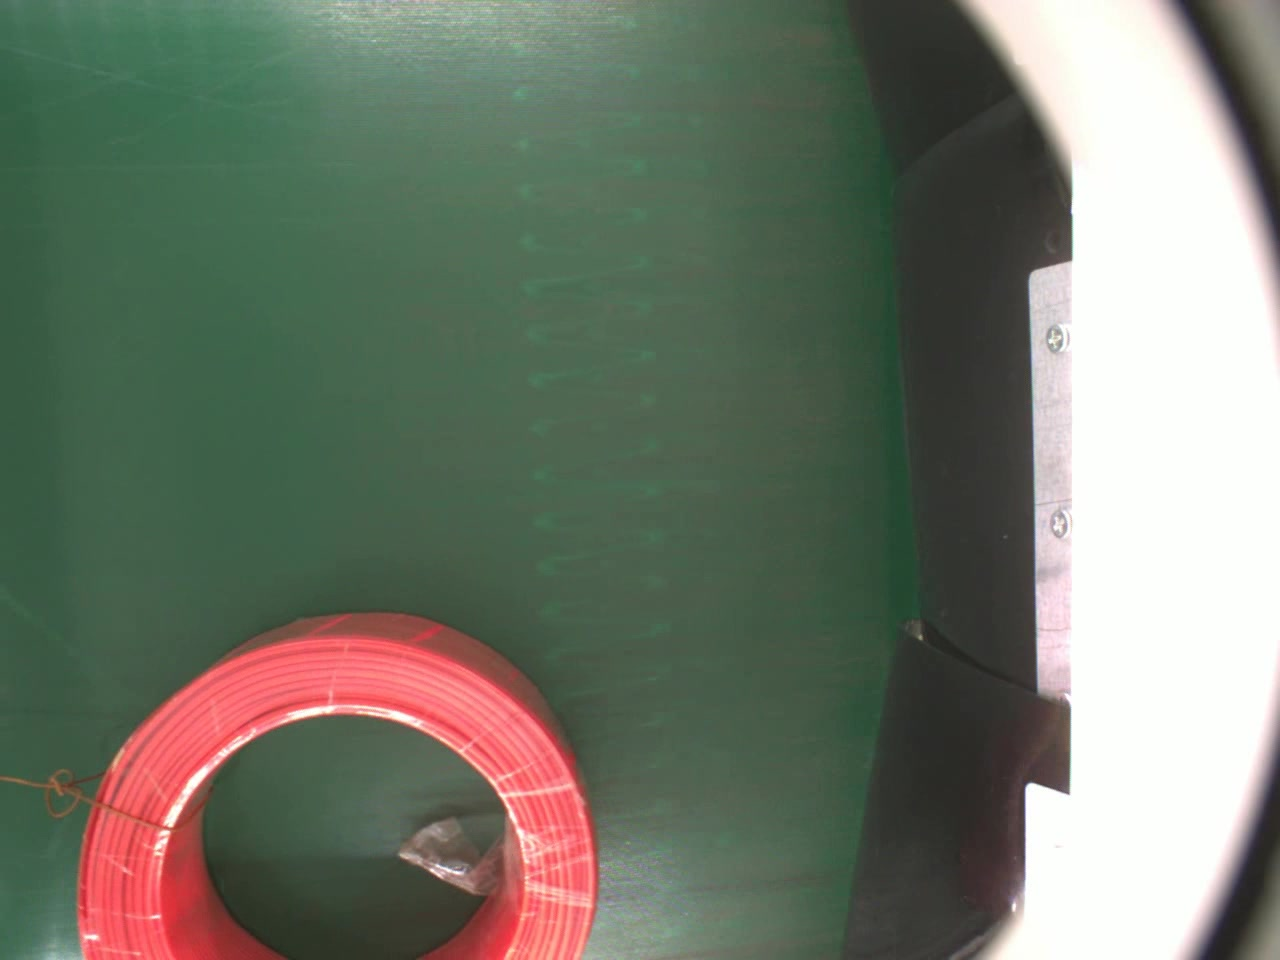red: (70, 607, 599, 960)
